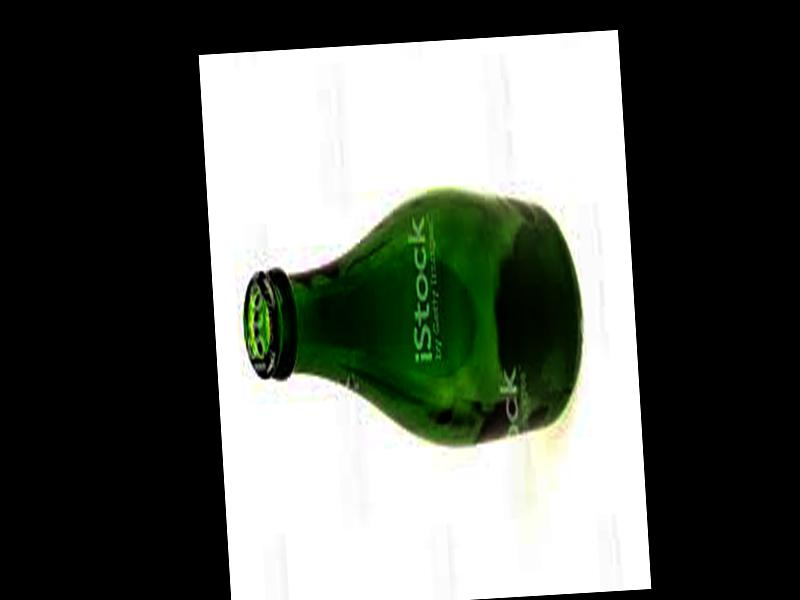Beer: (235, 181, 589, 460)
